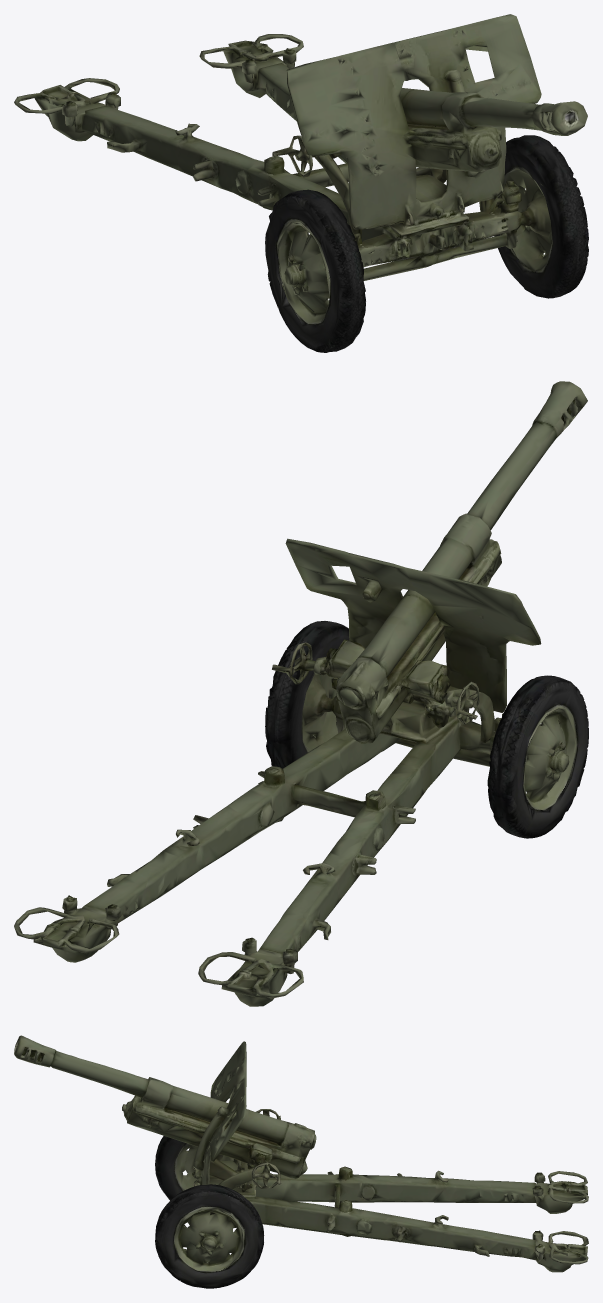
File: artillery.glb
3 renders of one model, top to bottom at view 1: azimuth 30°, elevation 25°; view 2: azimuth 150°, elevation 25°; view 3: azimuth 270°, elevation 25°, orthographic. The views are drawn at different scales.
Visible parts, largest first — view 1: tripo_node_1e497ec4-cba0-4d9b-9733-5a2e502f8882; view 2: tripo_node_1e497ec4-cba0-4d9b-9733-5a2e502f8882; view 3: tripo_node_1e497ec4-cba0-4d9b-9733-5a2e502f8882.
Boxes of the visible parts, x1,y1,x2,y2 form: tripo_node_1e497ec4-cba0-4d9b-9733-5a2e502f8882: (14,14,588,352); tripo_node_1e497ec4-cba0-4d9b-9733-5a2e502f8882: (14,381,588,1006); tripo_node_1e497ec4-cba0-4d9b-9733-5a2e502f8882: (14,1035,588,1288).
Size of the model in its own units: 0.3678 by 0.4013 by 0.979.
Materials: 1 (1 with a texture image).
